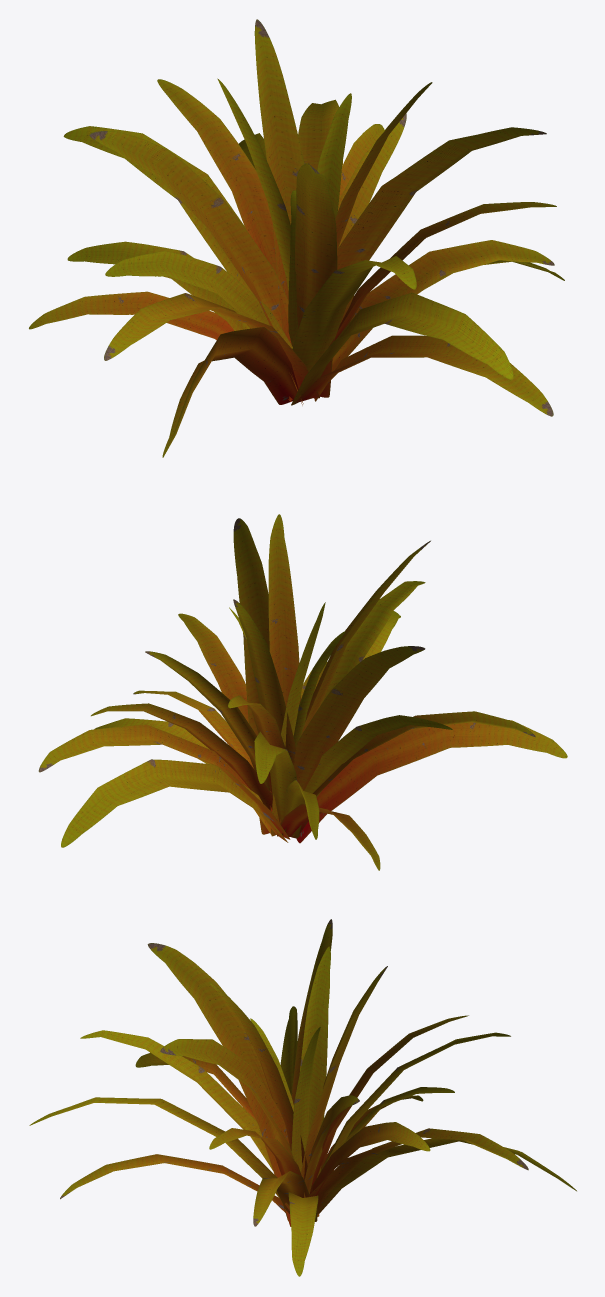
Rendered from PLant_10_2_L1.fbx.
The picture shows the model from 3 angles, top to bottom: view 1: azimuth 30°, elevation 25°; view 2: azimuth 150°, elevation 25°; view 3: azimuth 270°, elevation 25°; orthographic projection. The views are drawn at different scales.
Visible parts, largest first — view 1: polySurface5; view 2: polySurface5; view 3: polySurface5.
Part boxes in pixels (x1,y1,x2,y2): polySurface5: [29, 19, 564, 457]; polySurface5: [38, 514, 567, 870]; polySurface5: [29, 919, 576, 1276].
Bounding box in the file's own units: 179 × 114 × 211.
